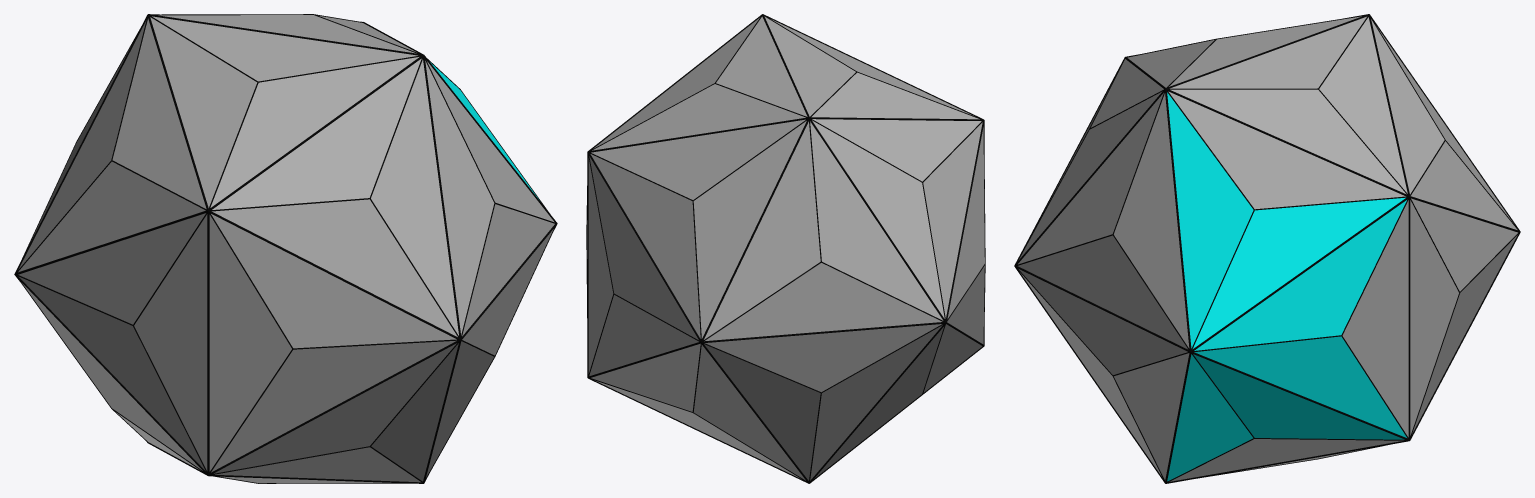
Rendered from TriakisIcosahedron6_1.glb.
3 renders of one model, left to right at view 1: azimuth 30°, elevation 25°; view 2: azimuth 150°, elevation 25°; view 3: azimuth 270°, elevation 25°, orthographic. The views are drawn at different scales.
Bounding box in the file's own units: 6.59 × 5.88 × 6.82.
